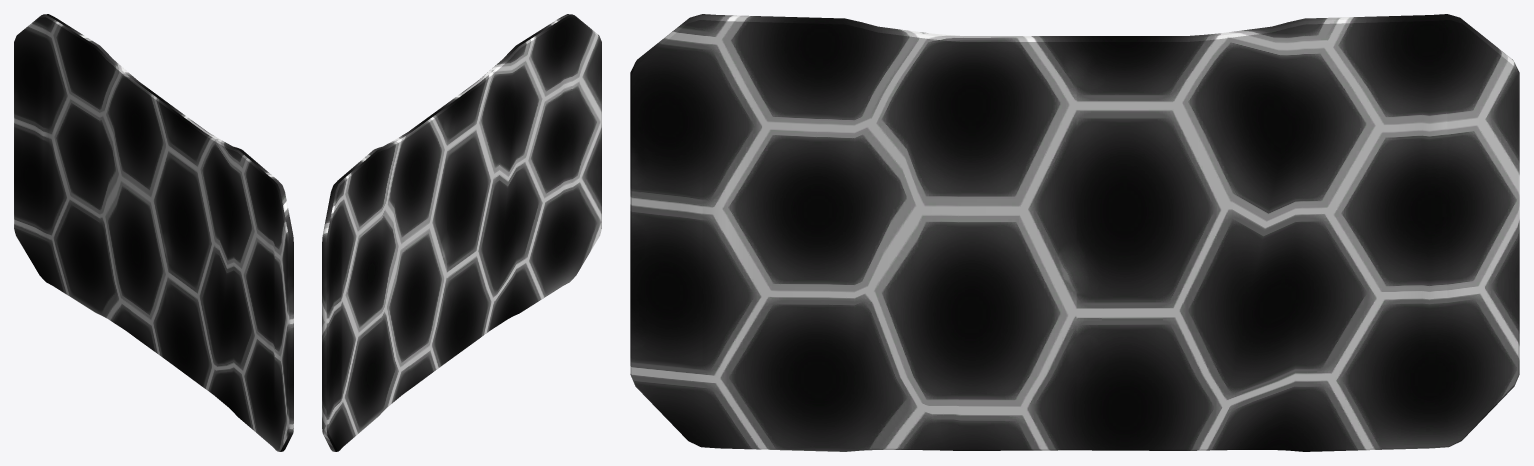
Rendered from Barrier.fbx.
3 views of the same model, side by side, from view 1: azimuth 30°, elevation 25°; view 2: azimuth 150°, elevation 25°; view 3: azimuth 270°, elevation 25° (orthographic). The views are drawn at different scales.
Visible parts, largest first — view 1: SM_GuardianBarrier.001; view 2: SM_GuardianBarrier.001; view 3: SM_GuardianBarrier.001.
Part boxes in pixels (box(x1,y1,x2,y2)): SM_GuardianBarrier.001: box(14, 14, 293, 451); SM_GuardianBarrier.001: box(322, 14, 601, 451); SM_GuardianBarrier.001: box(630, 14, 1519, 451).
Bounding box in the file's own units: 4494 × 47740 × 89295.
1 material, 1 textured.
